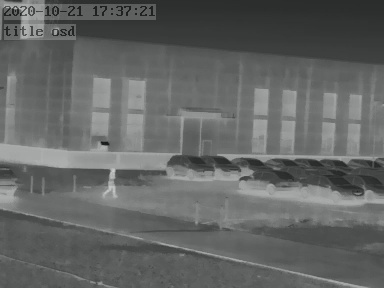person: (103, 163, 118, 197)
vehicle: (301, 171, 363, 199), (238, 169, 303, 191), (165, 153, 213, 179), (348, 173, 382, 200), (205, 153, 243, 177), (232, 154, 270, 172), (262, 155, 296, 170), (347, 156, 380, 170), (318, 156, 348, 170), (295, 156, 324, 169)
